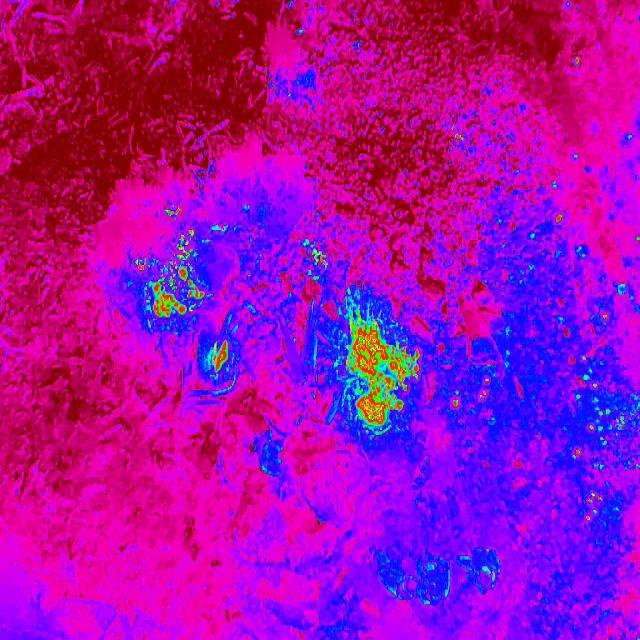fire: (567, 292, 640, 533), (344, 315, 422, 435), (136, 224, 205, 320), (448, 373, 496, 416), (208, 336, 232, 376), (312, 246, 331, 272), (552, 210, 570, 228), (164, 205, 180, 220), (572, 51, 582, 70)
